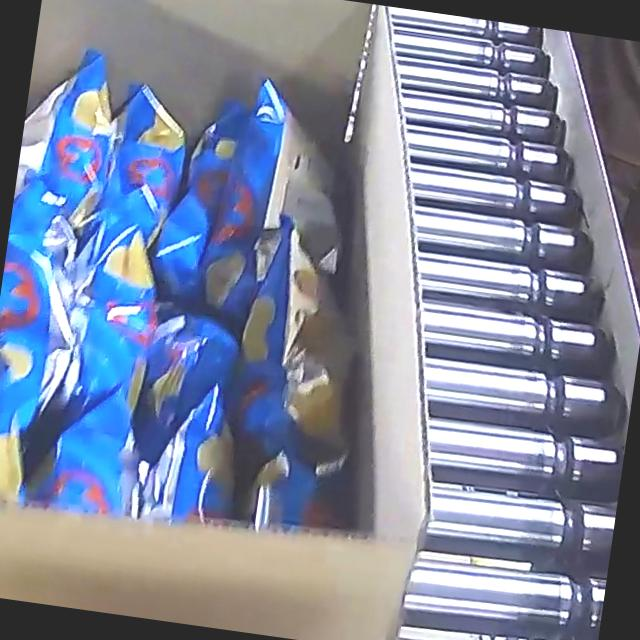paprika: (0, 37, 401, 552)
